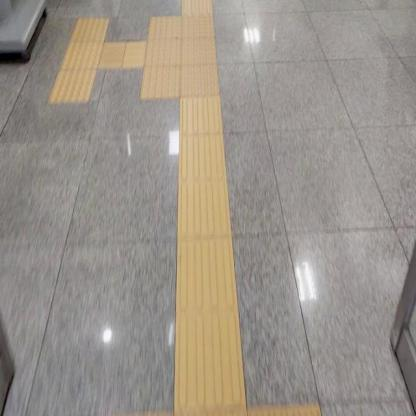podotacti: (180, 99, 248, 415), (132, 4, 229, 123), (51, 20, 110, 101)
